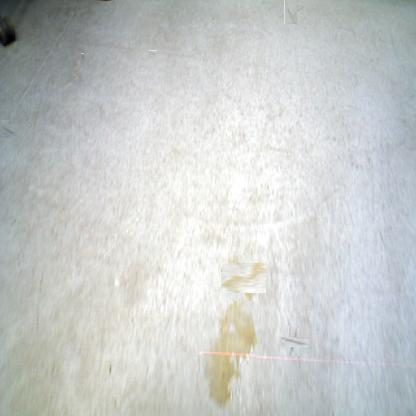liquid: (202, 302, 256, 406), (224, 260, 262, 298)
mark: (284, 332, 304, 352), (281, 2, 301, 21), (0, 122, 13, 135), (106, 362, 112, 376), (150, 50, 157, 58), (112, 395, 116, 408), (80, 53, 84, 60)
